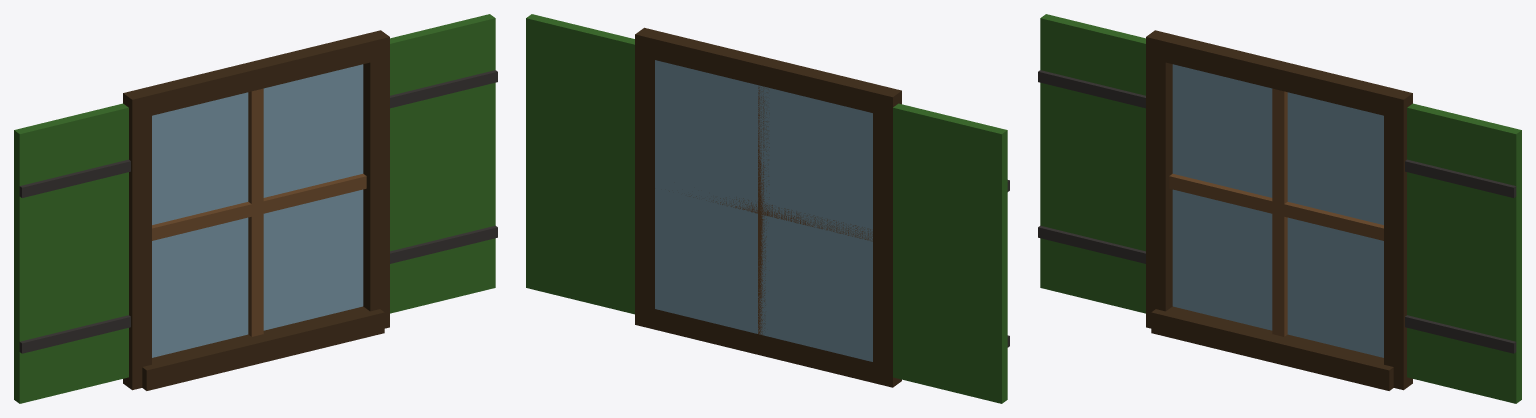
Rendered from mv_shutters.glb.
3 views of the same model, side by side, from view 1: azimuth 30°, elevation 25°; view 2: azimuth 150°, elevation 25°; view 3: azimuth 330°, elevation 25° (orthographic).
Parts seen in each view (by area): view 1: mv_shutters; view 2: mv_shutters; view 3: mv_shutters.
Part boxes in pixels (x1,y1,x2,y2): mv_shutters: (14, 14, 497, 403); mv_shutters: (526, 14, 1009, 403); mv_shutters: (1038, 14, 1521, 403).
Size of the model in its own units: 2.4 by 1.4 by 0.12.
